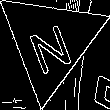N_N: (24, 11, 77, 73)
